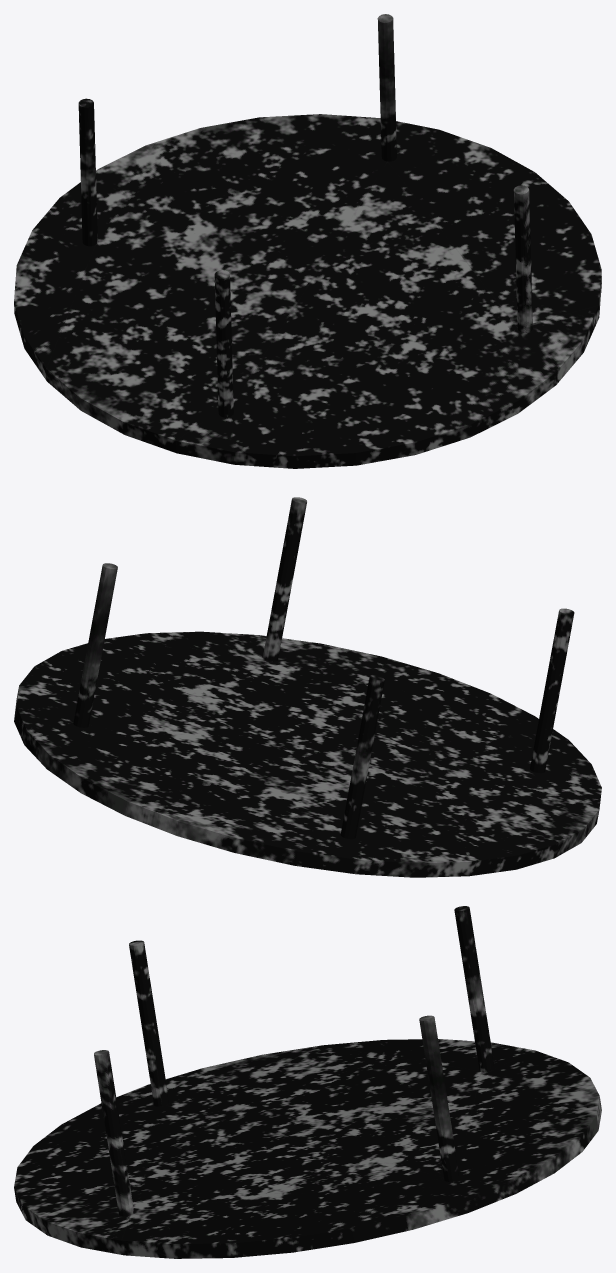
Rendered from carousel-bottom.gltf.
3 views of the same model, one above another, from view 1: azimuth 30°, elevation 25°; view 2: azimuth 150°, elevation 25°; view 3: azimuth 270°, elevation 25° (orthographic).
Visible parts, largest first — view 1: node_id5; view 2: node_id5; view 3: node_id5.
Part boxes in pixels (left/top/right/bottom): node_id5: left=14, top=14, right=601, bottom=468; node_id5: left=14, top=497, right=601, bottom=877; node_id5: left=14, top=906, right=601, bottom=1258.
Size of the model in its own units: 0.3565 by 0.1701 by 0.355.
1 material, 1 textured.
